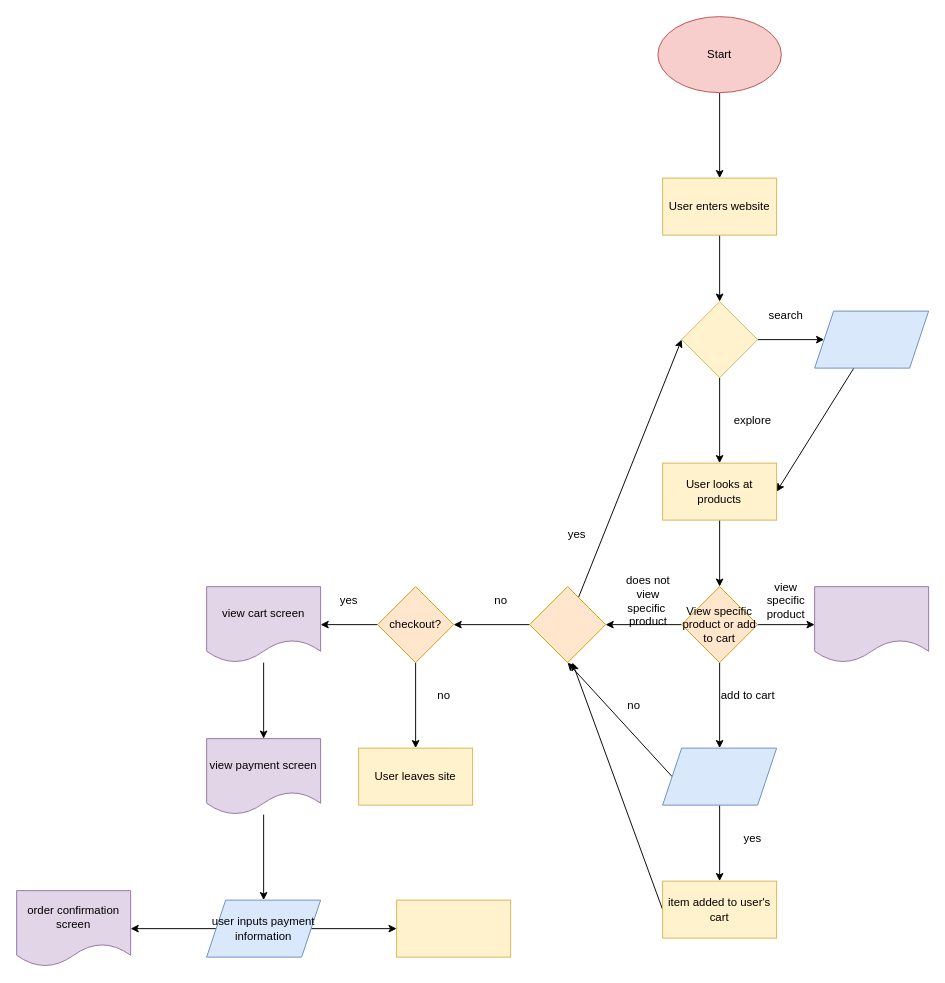
The diagram is 945 pixels wide and 983 high, and some of its shapes have lost their labels. Each missing label, with the centre of its shape:
add to cart confirmation: point (719, 776)
continue shopping?: point (567, 624)
product’s webpage: point (871, 624)
search or explore: point (719, 339)
send email to user: point (453, 928)
user provide input to the website: point (871, 339)
